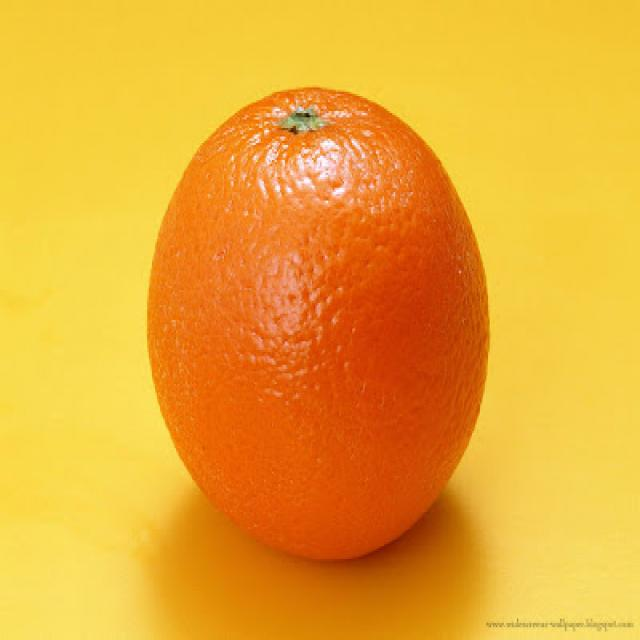Orange: (140, 84, 491, 562)
